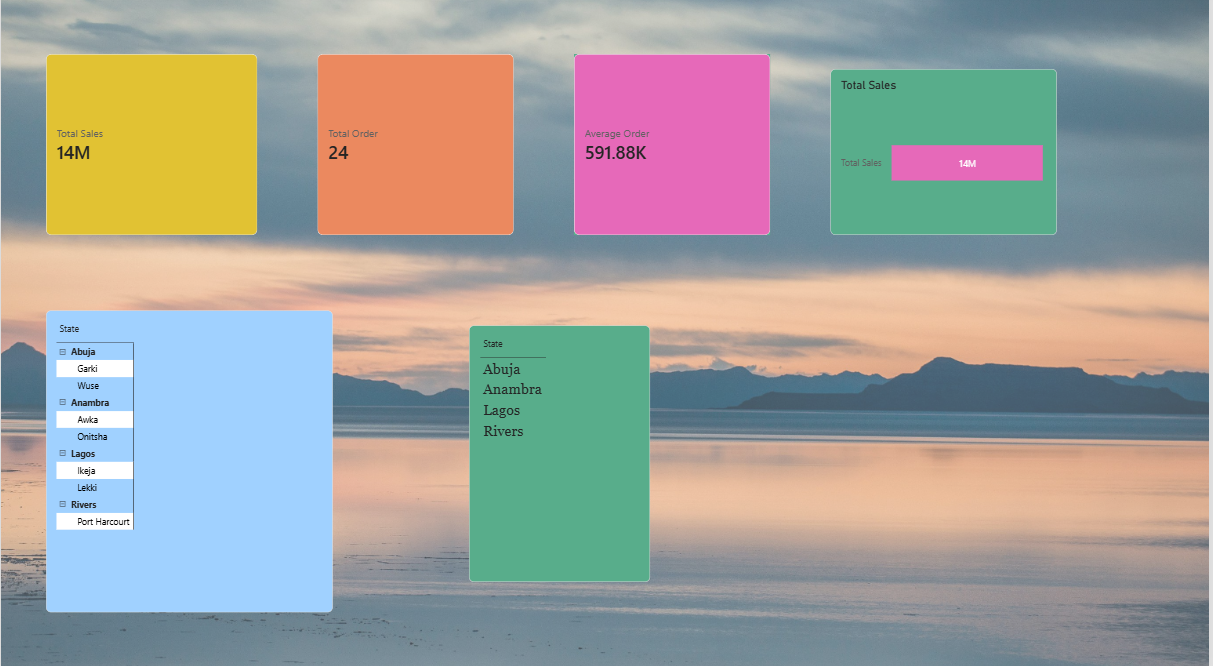

What the dashboard file says about the page in this screenshot:
{"tool":"powerbi","page":{"name":"DYNAMIC RLS","canvas":[1920,1080],"ordinal":0},"visuals":[{"type":"cardVisual","fields":{"Data":["Sales.Total Sales"]},"box":[72,96,336,288],"z":0},{"type":"cardVisual","fields":{"Data":["Sales.Total Order"]},"box":[504,96,312,288],"z":1000},{"type":"cardVisual","fields":{"Data":["Sales.Total Average Order"]},"box":[912,96,312,288],"z":2000},{"type":"tableEx","fields":{"Values":["Sales.State"]},"box":[744,528,288,408],"z":3000},{"type":"pivotTable","fields":{"Rows":["Sales.State","Sales.City"]},"box":[72,504,456,480],"z":4000},{"type":"funnel","fields":{"Y":["Sales.Total Sales"]},"box":[1320,120,360,264],"z":5000}]}

Visuals, with their boxes in screenshot pixels (x1, y1, x2, y2), scaled from the page's 1920x1080 canvas onto the 1213x666 screenshot:
cardVisual - Sales.Total Sales: <region>45, 59, 258, 237</region>
cardVisual - Sales.Total Order: <region>318, 59, 516, 237</region>
cardVisual - Sales.Total Average Order: <region>576, 59, 773, 237</region>
tableEx - Sales.State: <region>470, 326, 652, 577</region>
pivotTable - Sales.State x Sales.City: <region>45, 311, 334, 607</region>
funnel - Sales.Total Sales: <region>834, 74, 1061, 237</region>
